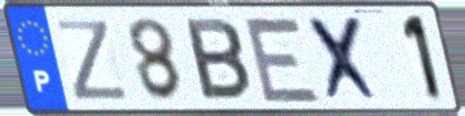1: (398, 12, 447, 105)
8: (126, 16, 187, 105)
B: (182, 16, 255, 104)
E: (239, 14, 325, 106)
X: (303, 14, 386, 104)
Z: (53, 18, 134, 103)
